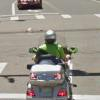Motorcycle: (22, 30, 82, 100)
